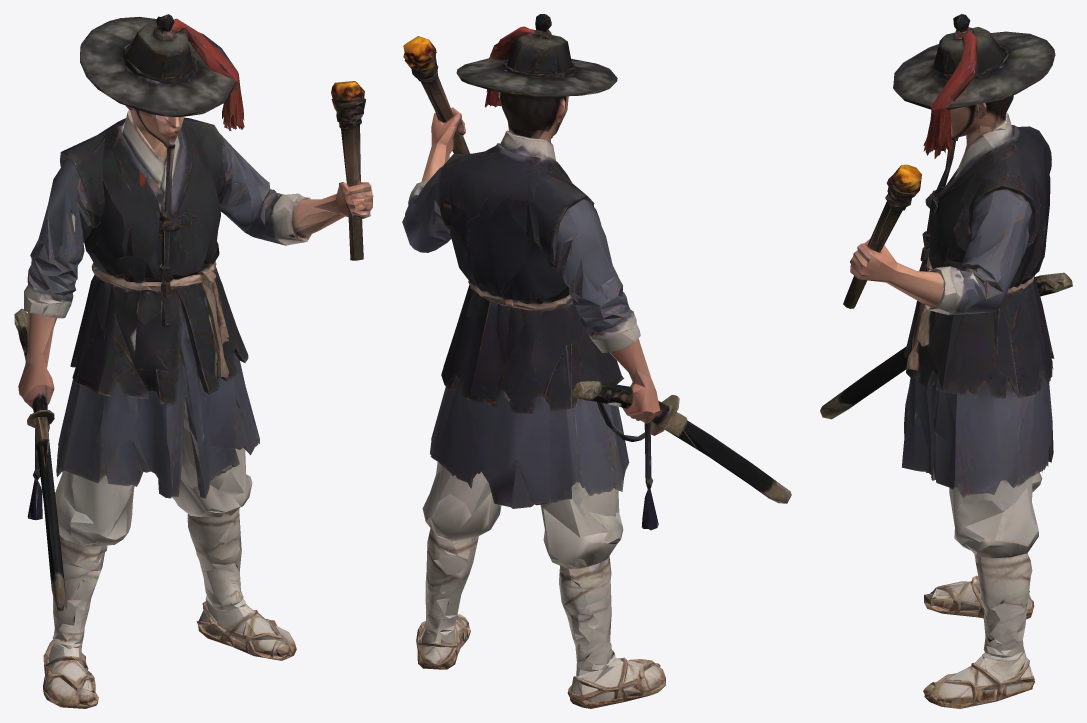
File: rioter_torch.glb
3 views of the same model, side by side, from view 1: azimuth 30°, elevation 25°; view 2: azimuth 150°, elevation 25°; view 3: azimuth 270°, elevation 25° (orthographic). The views are drawn at different scales.
Size of the model in its own units: 1.05 by 1.9 by 0.6808.
Materials: 1 (1 with a texture image).
